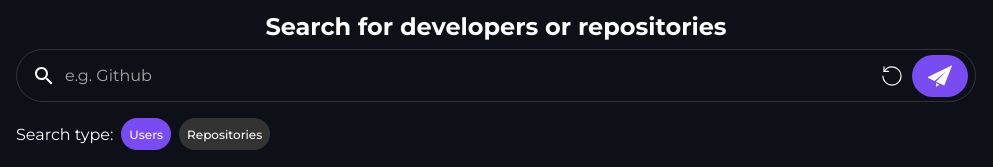
it: Search › should handle form reset correctly
This screenshot has width=993, height=167.
Type "test" into the field with test id "input" at (496, 76), box [16,49,976,102]
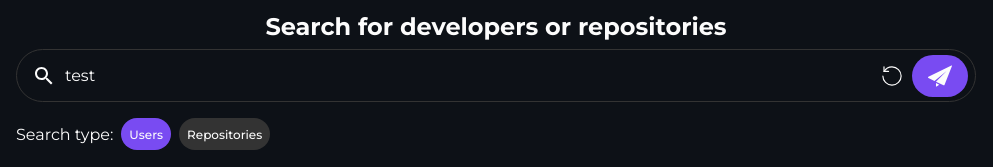
Click the button with test id "reset" at (892, 76), box [872,60,912,92]
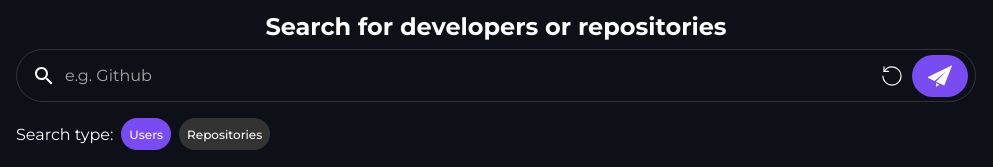
Expected: the field with test id "input" is empty, [16,49,976,102]
